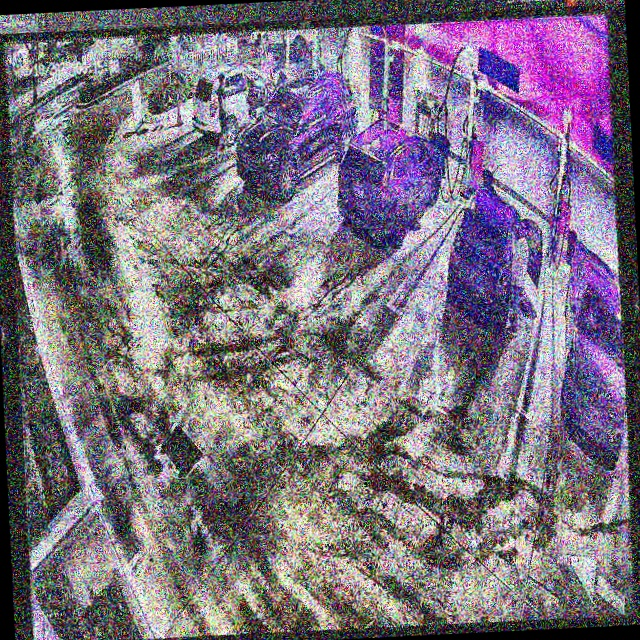Car: (230, 68, 362, 200), (443, 180, 548, 334), (336, 117, 445, 250)
